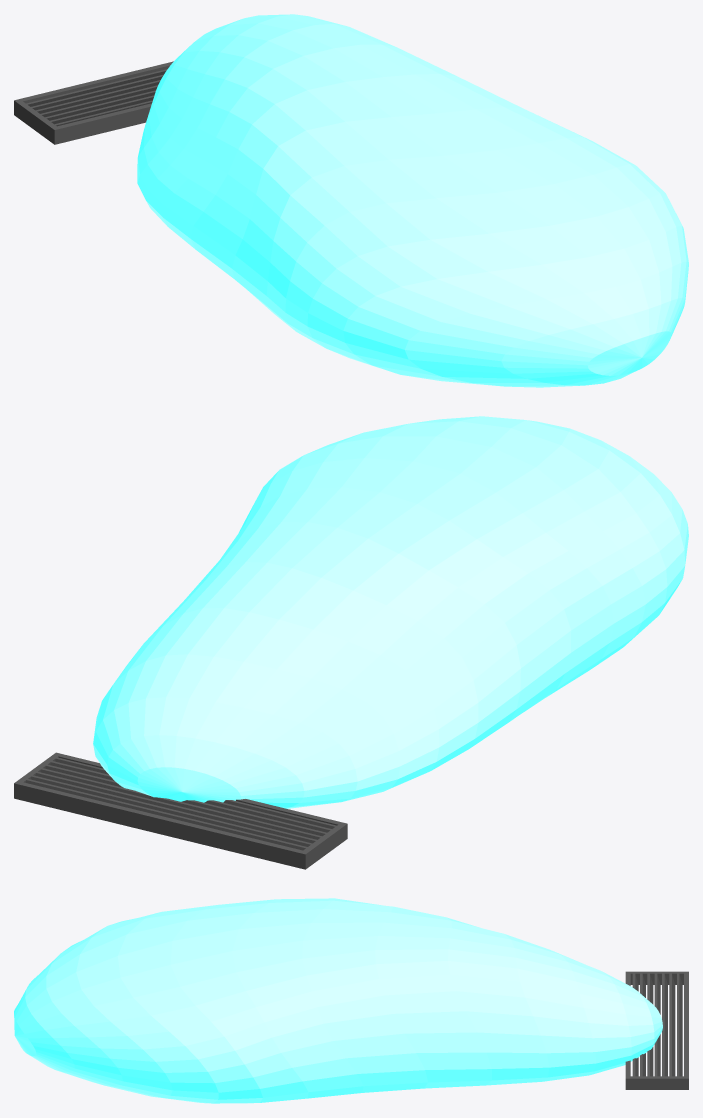
File: VentwithDrip.fbx
3 renders of one model, top to bottom at view 1: azimuth 30°, elevation 25°; view 2: azimuth 150°, elevation 25°; view 3: azimuth 270°, elevation 25°, orthographic. The views are drawn at different scales.
Visible parts, largest first — view 1: Sphere, Vent; view 2: Sphere, Vent; view 3: Sphere, Vent.
Boxes of the visible parts, x1,y1,x2,y2 form: Sphere: [137, 14, 688, 387]; Vent: [14, 61, 173, 144]; Sphere: [93, 416, 688, 808]; Vent: [14, 752, 347, 869]; Sphere: [14, 898, 662, 1103]; Vent: [625, 971, 688, 1089].
Bounding box in the file's own units: 131 × 54.42 × 267.
